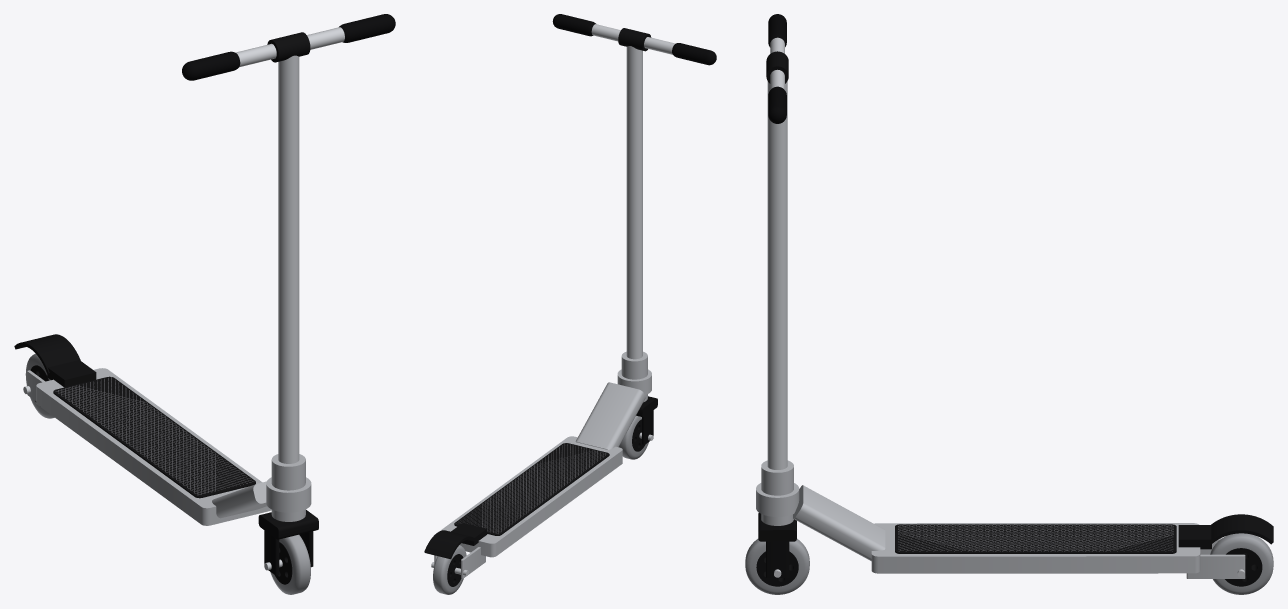
Rendered from kick-scooter.glb.
3 views of the same model, side by side, from view 1: azimuth 30°, elevation 25°; view 2: azimuth 150°, elevation 25°; view 3: azimuth 270°, elevation 25° (orthographic). The views are drawn at different scales.
Visible parts, largest first — view 1: grip_tape, Geom.004, deck_plate, GLTF, rear_mudguard, front_fork, head_tube, tire, deck_neck, Geom.003, neck_collar, grip_right (+2 smaller); view 2: Geom.004, grip_tape, deck_plate, GLTF, deck_neck, rear_mudguard, tire.001, Geom.003, grip_right, head_tube, grip_left, front_fork (+4 smaller); view 3: grip_tape, deck_plate, Geom.004, GLTF, deck_neck, rear_mudguard, tire.001, tire, front_fork, rear_dropouts, head_tube, neck_collar (+1 smaller).
Boxes of the visible parts, x1=… form: grip_tape: x1=53, y1=376, x2=255, y2=498; Geom.004: x1=278, y1=55, x2=299, y2=536; deck_plate: x1=36, y1=368, x2=271, y2=525; GLTF: x1=55, y1=377, x2=253, y2=495; rear_mudguard: x1=14, y1=334, x2=96, y2=387; front_fork: x1=258, y1=510, x2=318, y2=575; head_tube: x1=271, y1=454, x2=305, y2=521; tire: x1=270, y1=534, x2=310, y2=594; deck_neck: x1=212, y1=481, x2=266, y2=518; Geom.003: x1=235, y1=27, x2=344, y2=67; neck_collar: x1=266, y1=477, x2=311, y2=512; grip_right: x1=182, y1=51, x2=240, y2=80; Geom.004: x1=626, y1=46, x2=642, y2=359; grip_tape: x1=454, y1=443, x2=609, y2=535; deck_plate: x1=441, y1=436, x2=622, y2=557; GLTF: x1=455, y1=443, x2=608, y2=533; deck_neck: x1=575, y1=382, x2=645, y2=449; rear_mudguard: x1=424, y1=523, x2=487, y2=559; tire.001: x1=433, y1=545, x2=466, y2=594; Geom.003: x1=591, y1=24, x2=675, y2=54; grip_right: x1=672, y1=43, x2=716, y2=65; head_tube: x1=621, y1=351, x2=647, y2=402; grip_left: x1=552, y1=14, x2=595, y2=36; front_fork: x1=636, y1=396, x2=657, y2=444; grip_tape: x1=895, y1=524, x2=1176, y2=553; deck_plate: x1=871, y1=523, x2=1200, y2=573; Geom.004: x1=767, y1=81, x2=787, y2=469; GLTF: x1=898, y1=524, x2=1173, y2=551; deck_neck: x1=793, y1=485, x2=885, y2=561; rear_mudguard: x1=1178, y1=514, x2=1273, y2=549; tire.001: x1=1210, y1=533, x2=1273, y2=594; tire: x1=745, y1=538, x2=809, y2=594; front_fork: x1=758, y1=513, x2=796, y2=577; rear_dropouts: x1=1186, y1=538, x2=1245, y2=578; head_tube: x1=761, y1=460, x2=793, y2=525; neck_collar: x1=756, y1=483, x2=799, y2=516.
Bounding box in the file's own units: 0.4 × 1 × 0.9002.
Materials: 8 (1 with a texture image).
